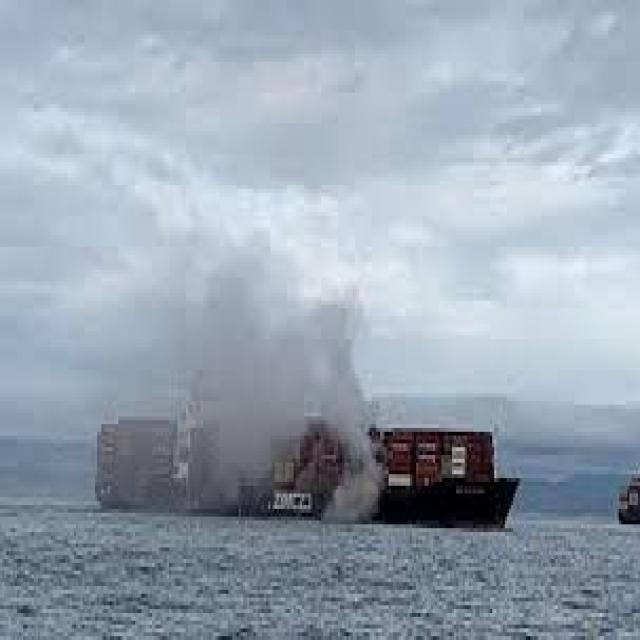cargoship: (98, 376, 511, 528)
